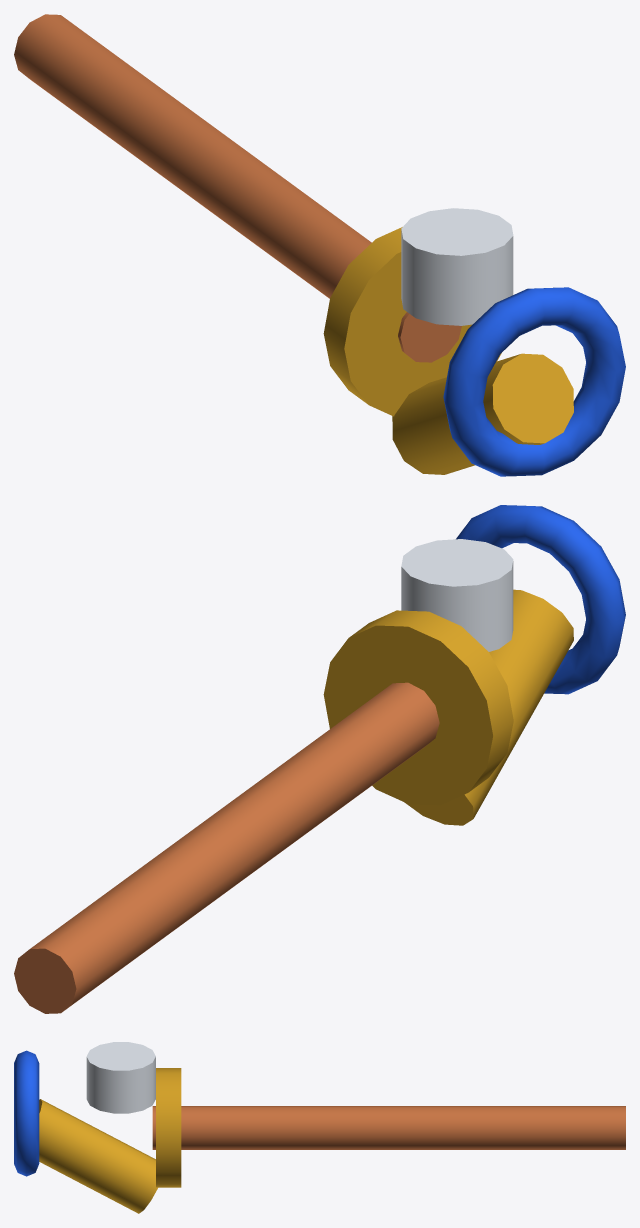
File: fixture-hose-bibb.glb
3 renders of one model, top to bottom at view 1: azimuth 30°, elevation 25°; view 2: azimuth 150°, elevation 25°; view 3: azimuth 270°, elevation 25°, orthographic. The views are drawn at different scales.
Parts seen in each view (by area): view 1: plumbing-fixture-hose-bibb; view 2: plumbing-fixture-hose-bibb; view 3: plumbing-fixture-hose-bibb.
Part boxes in pixels (left/top/right/bottom): plumbing-fixture-hose-bibb: left=14, top=14, right=625, bottom=476; plumbing-fixture-hose-bibb: left=14, top=505, right=625, bottom=1013; plumbing-fixture-hose-bibb: left=14, top=1042, right=625, bottom=1213.
Bounding box in the file's own units: 0.08 × 0.1081 × 0.388.
